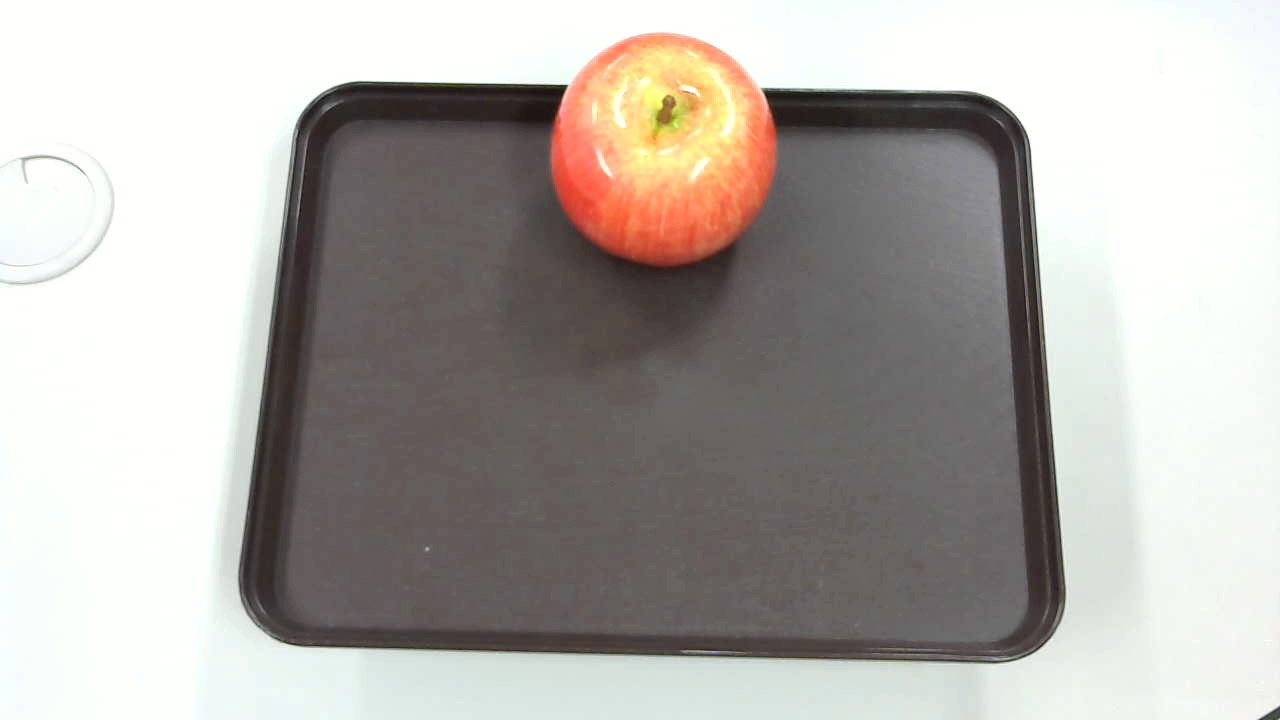red apple: (539, 29, 786, 285)
